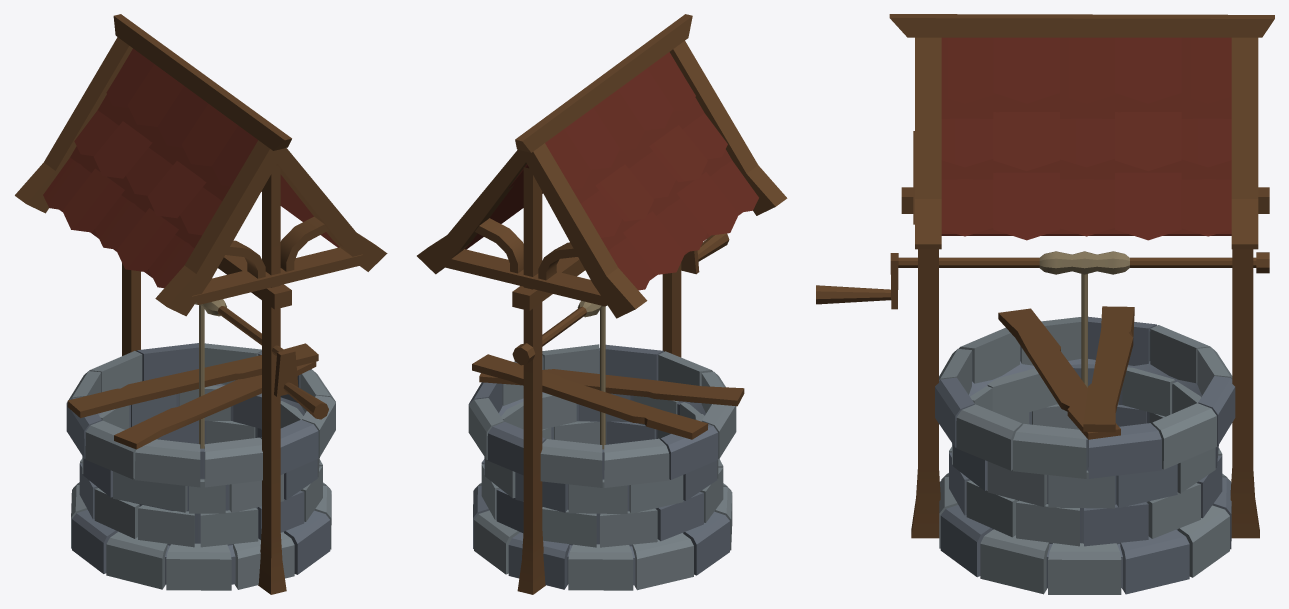
The model's file is b_well.glb.
3 renders of one model, left to right at view 1: azimuth 30°, elevation 25°; view 2: azimuth 150°, elevation 25°; view 3: azimuth 270°, elevation 25°, orthographic. The views are drawn at different scales.
Parts seen in each view (by area): view 1: Well; view 2: Well; view 3: Well.
Boxes of the visible parts, x1,y1,x2,y2 form: Well: (15, 14, 387, 594); Well: (417, 14, 787, 594); Well: (816, 14, 1274, 594).
Bounding box in the file's own units: 0.6664 × 1.25 × 1.
